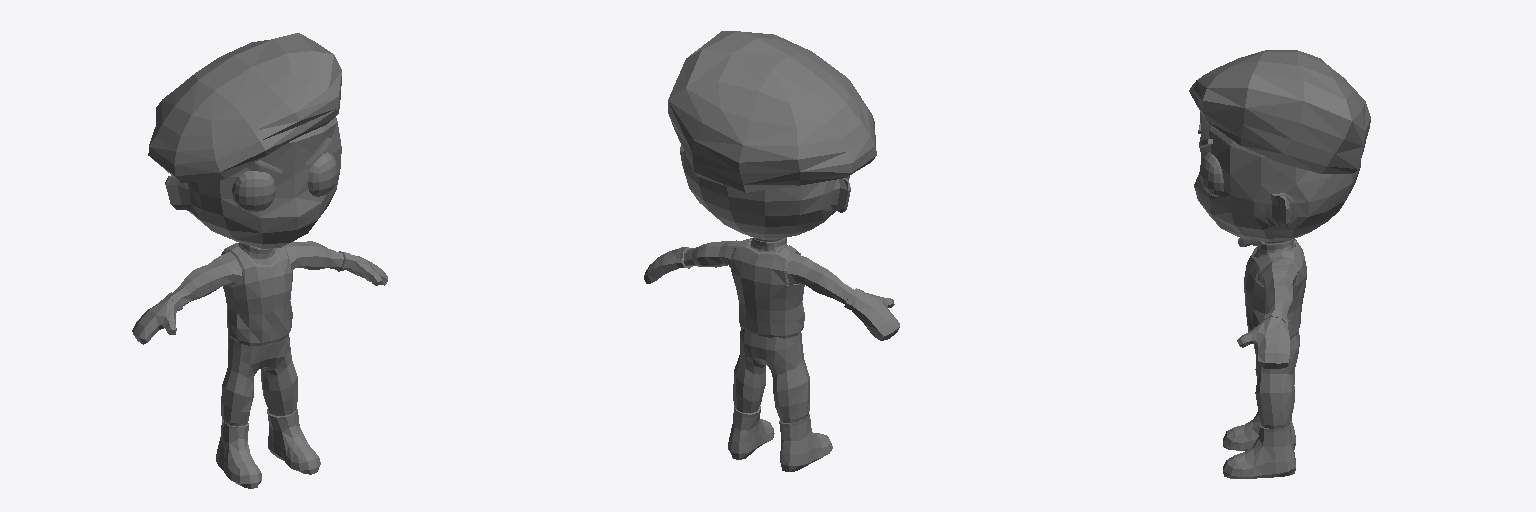
Rendered from Guardia_Exterior_Boina_Low.obj.
The picture shows the model from 3 angles: view 1: azimuth 30°, elevation 25°; view 2: azimuth 150°, elevation 25°; view 3: azimuth 270°, elevation 25°; orthographic projection.
Parts seen in each view (by area): view 1: Guardia_Exterior_Boina_Low:Group62273 Guardia_Exterior_Boina_Low, Guardia_Exterior_Boina_Low:group5 Guardia_Exterior_Boina_Low:pol; view 2: Guardia_Exterior_Boina_Low:Group62273 Guardia_Exterior_Boina_Low; view 3: Guardia_Exterior_Boina_Low:Group62273 Guardia_Exterior_Boina_Low, Guardia_Exterior_Boina_Low:group5 Guardia_Exterior_Boina_Low:pol.
Boxes of the visible parts, x1,y1,x2,y2 form: Guardia_Exterior_Boina_Low:Group62273 Guardia_Exterior_Boina_Low: [132, 33, 387, 488]; Guardia_Exterior_Boina_Low:group5 Guardia_Exterior_Boina_Low:pol: [232, 137, 337, 211]; Guardia_Exterior_Boina_Low:Group62273 Guardia_Exterior_Boina_Low: [644, 31, 899, 471]; Guardia_Exterior_Boina_Low:Group62273 Guardia_Exterior_Boina_Low: [1189, 50, 1370, 478]; Guardia_Exterior_Boina_Low:group5 Guardia_Exterior_Boina_Low:pol: [1198, 123, 1223, 196].
Bounding box in the file's own units: 3.98 × 6.25 × 2.52.